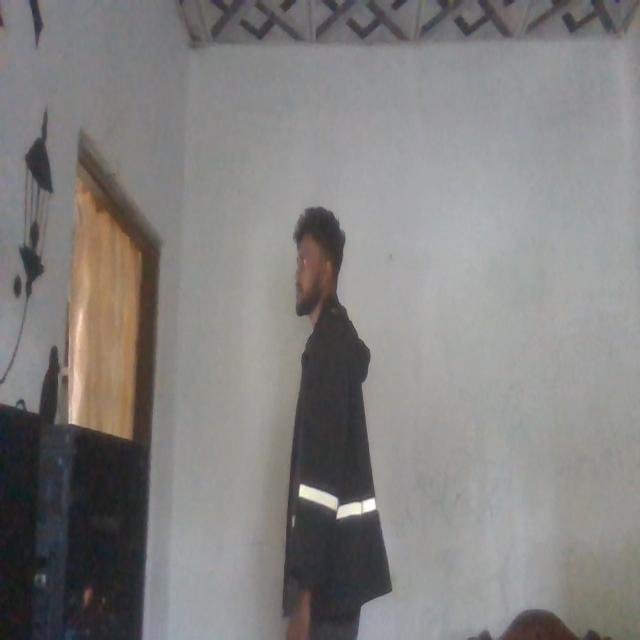Jacket_Wearer: (280, 308, 388, 618)
Person: (268, 193, 399, 634)
